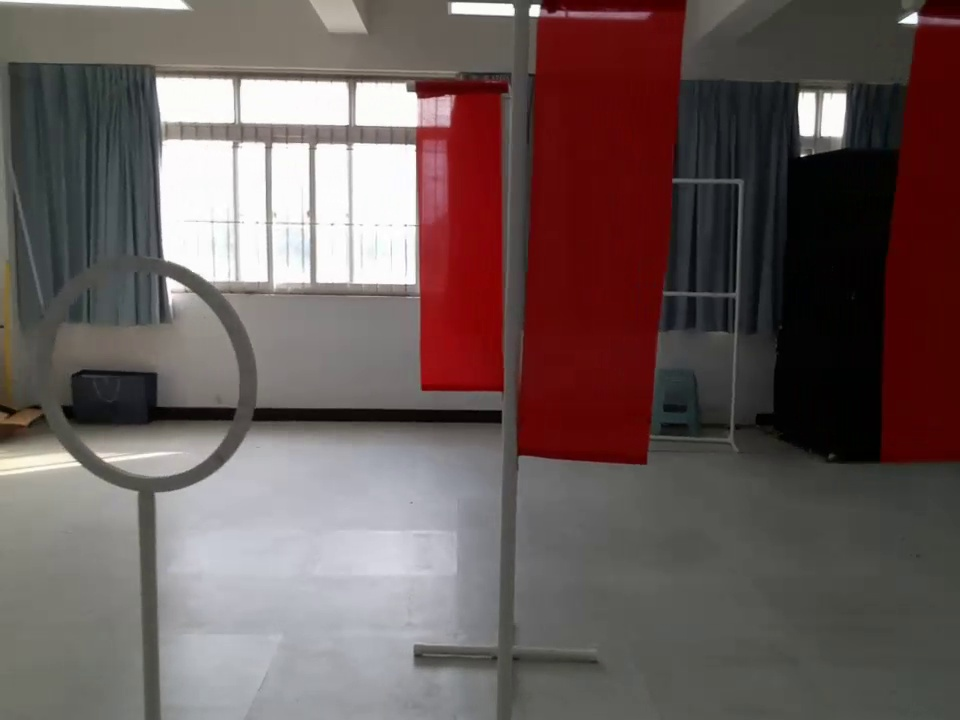qi: (499, 2, 674, 469), (403, 71, 516, 407)
quan: (10, 251, 274, 512)
